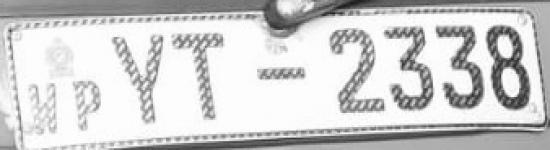-: (253, 57, 310, 91)
2: (325, 22, 388, 118)
3: (436, 18, 488, 116), (385, 19, 437, 115)
8: (484, 16, 530, 114)
P: (69, 77, 105, 131)
T: (170, 25, 235, 124)
W: (27, 80, 61, 139)
Y: (109, 31, 169, 127)
